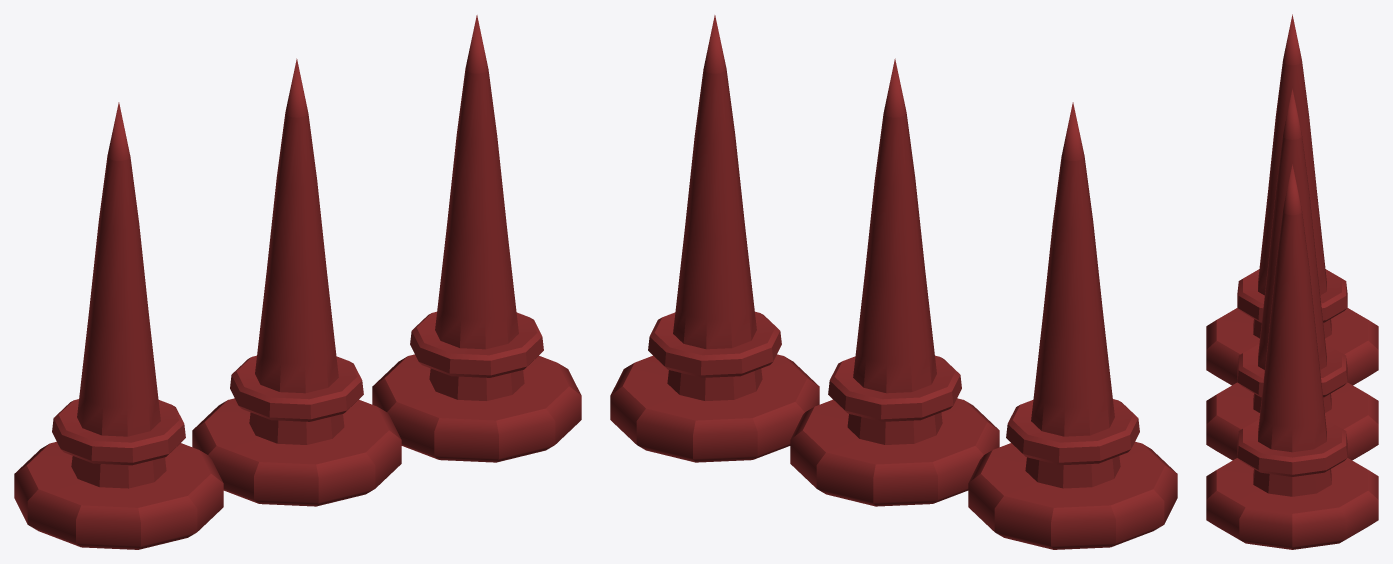
Rendered from Model_Piques.fbx.
The picture shows the model from 3 angles, left to right: view 1: azimuth 30°, elevation 25°; view 2: azimuth 150°, elevation 25°; view 3: azimuth 270°, elevation 25°; orthographic projection. The views are drawn at different scales.
Visible parts, largest first — view 1: pCylinder11; view 2: pCylinder11; view 3: pCylinder11.
Boxes of the visible parts, x1=… form: pCylinder11: x1=14, y1=15, x2=581, y2=549; pCylinder11: x1=610, y1=15, x2=1177, y2=549; pCylinder11: x1=1206, y1=14, x2=1378, y2=549.
Size of the model in its own units: 7.06 by 5.12 by 2.27.
Materials: 1 (1 with a texture image).
